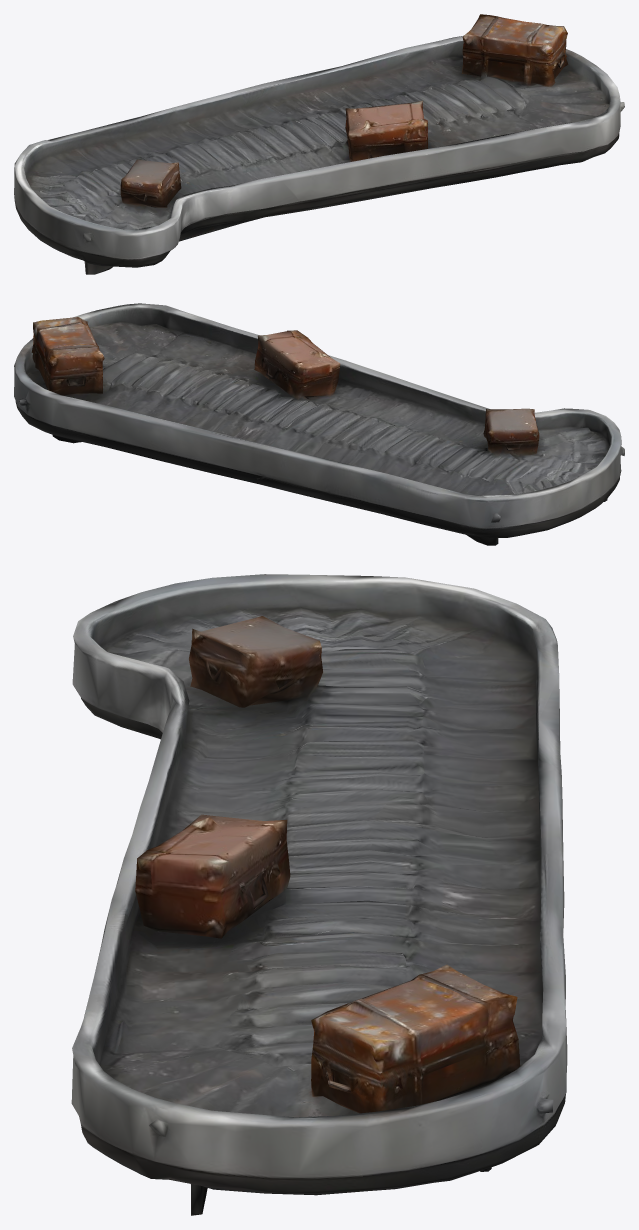
Rendered from ap_carousel.glb.
The picture shows the model from 3 angles, top to bottom: view 1: azimuth 30°, elevation 25°; view 2: azimuth 150°, elevation 25°; view 3: azimuth 270°, elevation 25°; orthographic projection. The views are drawn at different scales.
Visible parts, largest first — view 1: tripo_node_2bd41e8a-4047-44d7-a90e-5136dd509ae5; view 2: tripo_node_2bd41e8a-4047-44d7-a90e-5136dd509ae5; view 3: tripo_node_2bd41e8a-4047-44d7-a90e-5136dd509ae5.
Boxes of the visible parts, x1=… form: tripo_node_2bd41e8a-4047-44d7-a90e-5136dd509ae5: x1=14, y1=14, x2=624, y2=274; tripo_node_2bd41e8a-4047-44d7-a90e-5136dd509ae5: x1=14, y1=303, x2=624, y2=545; tripo_node_2bd41e8a-4047-44d7-a90e-5136dd509ae5: x1=71, y1=574, x2=567, y2=1215.
Bounding box in the file's own units: 1 × 0.1544 × 0.3808.
1 material, 1 textured.
